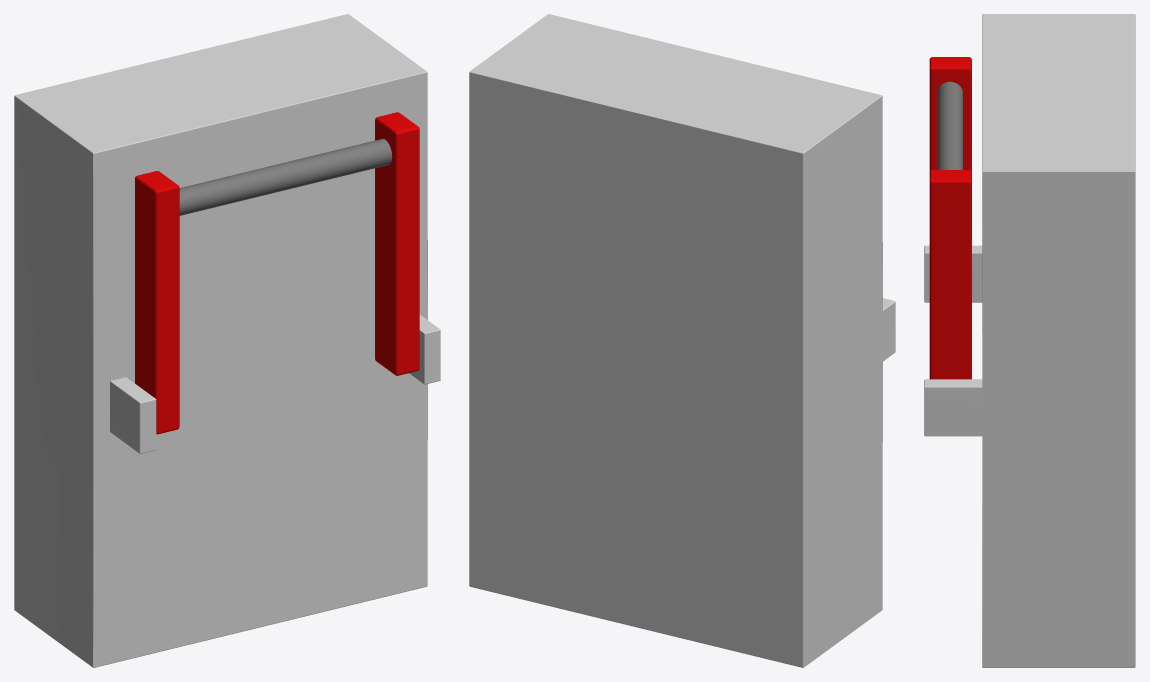
The model's file is Electrical switch.fbx.
The picture shows the model from 3 angles, left to right: view 1: azimuth 30°, elevation 25°; view 2: azimuth 150°, elevation 25°; view 3: azimuth 270°, elevation 25°; orthographic projection. The views are drawn at different scales.
Parts seen in each view (by area): view 1: pCube1, pCube2, pCube3, pCylinder1; view 2: pCube1; view 3: pCube1, pCube2, pCube3, pCylinder1.
Part boxes in pixels (<box>): pCube1: <box>14,14,440,667</box>; pCube2: <box>375,112,419,375</box>; pCube3: <box>135,171,179,434</box>; pCylinder1: <box>179,138,392,215</box>; pCube1: <box>469,14,895,667</box>; pCube1: <box>924,14,1135,667</box>; pCube2: <box>929,170,971,379</box>; pCube3: <box>929,57,971,172</box>; pCylinder1: <box>937,81,962,169</box>.
Bounding box in the file's own units: 0.6799 × 1 × 0.3849.
